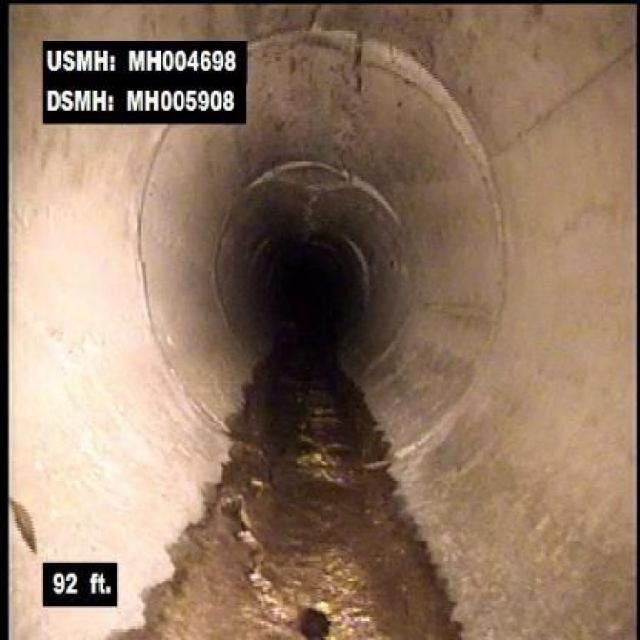Buckling: (234, 489, 277, 608)
Crack: (343, 30, 369, 96), (305, 6, 326, 28)
Joint offset: (369, 37, 458, 118)
